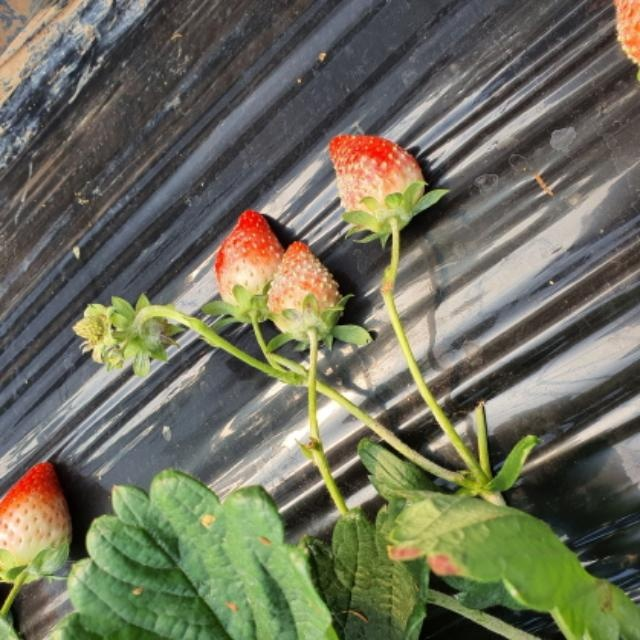Powdery Mildew Fruit: (327, 134, 425, 235), (215, 209, 285, 323), (270, 240, 344, 342)
